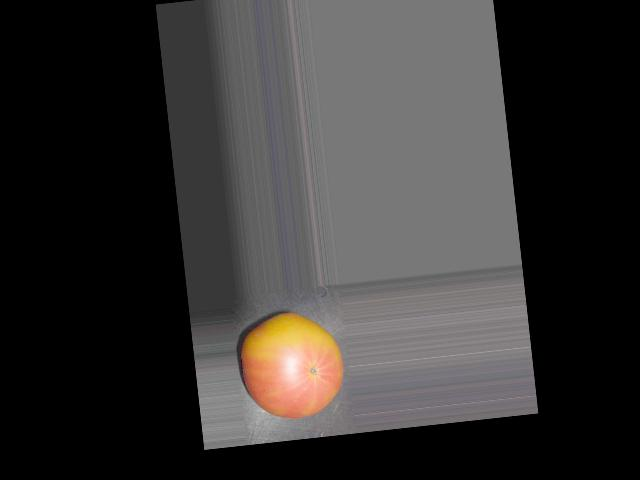tomato: (236, 308, 348, 423)
